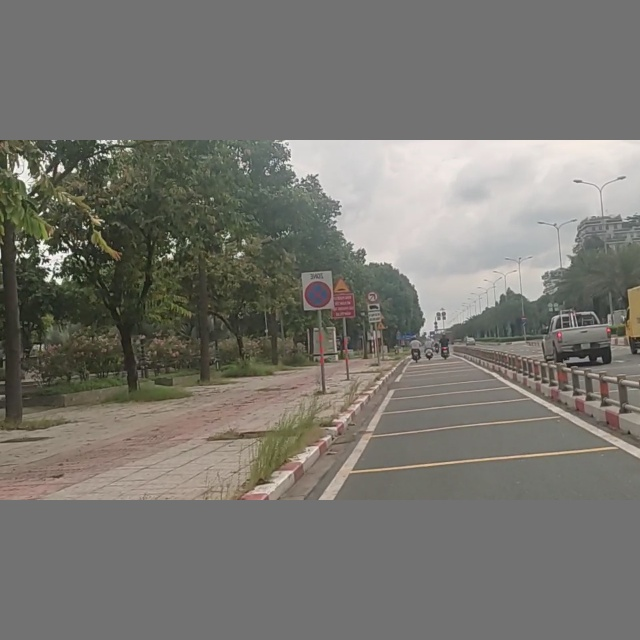P.123b: (367, 291, 379, 303)
P.130: (303, 271, 333, 312)
S.505a*Xe tai: (368, 303, 381, 323)
W.221b: (333, 277, 351, 293)
